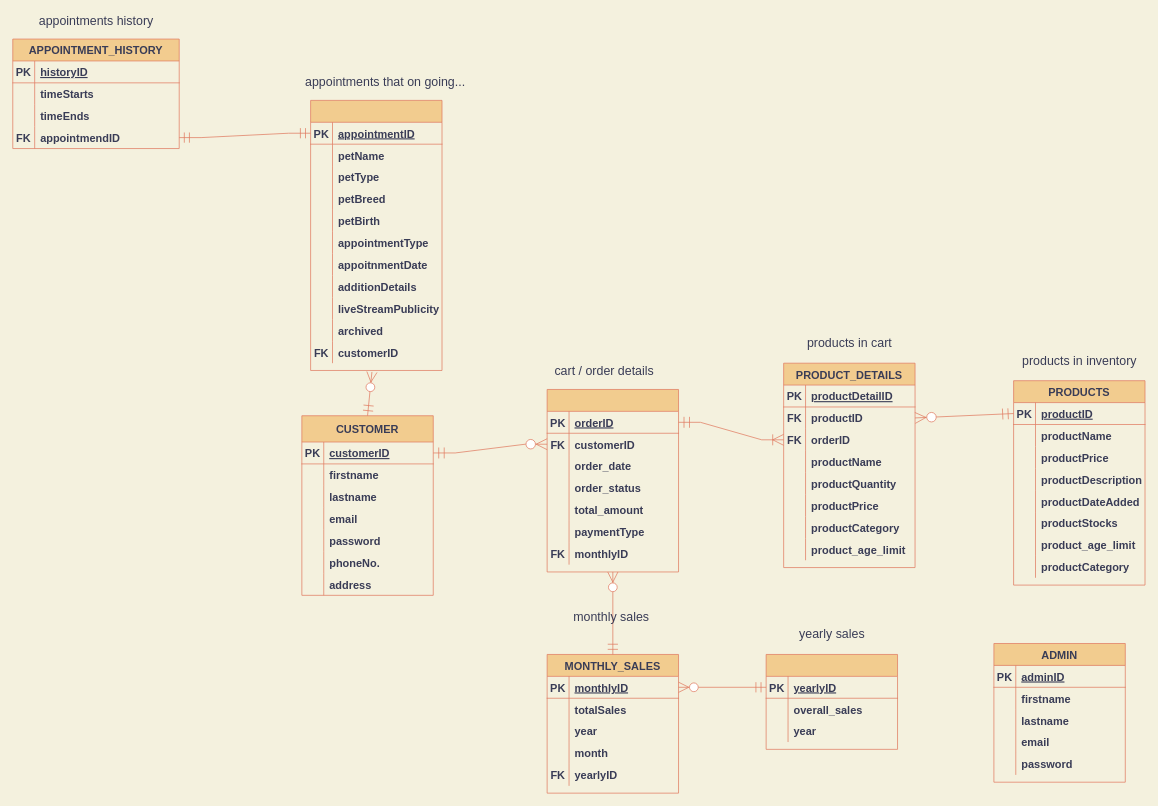
Image size: 1158x806. Some labels were removed from this diagram. Each missing label, with the box of its shape:
APPOINTMENTS: (310, 100, 442, 370)
ORDER_DETAILS: (546, 389, 679, 572)
YEARLY_SALES: (765, 654, 898, 749)
